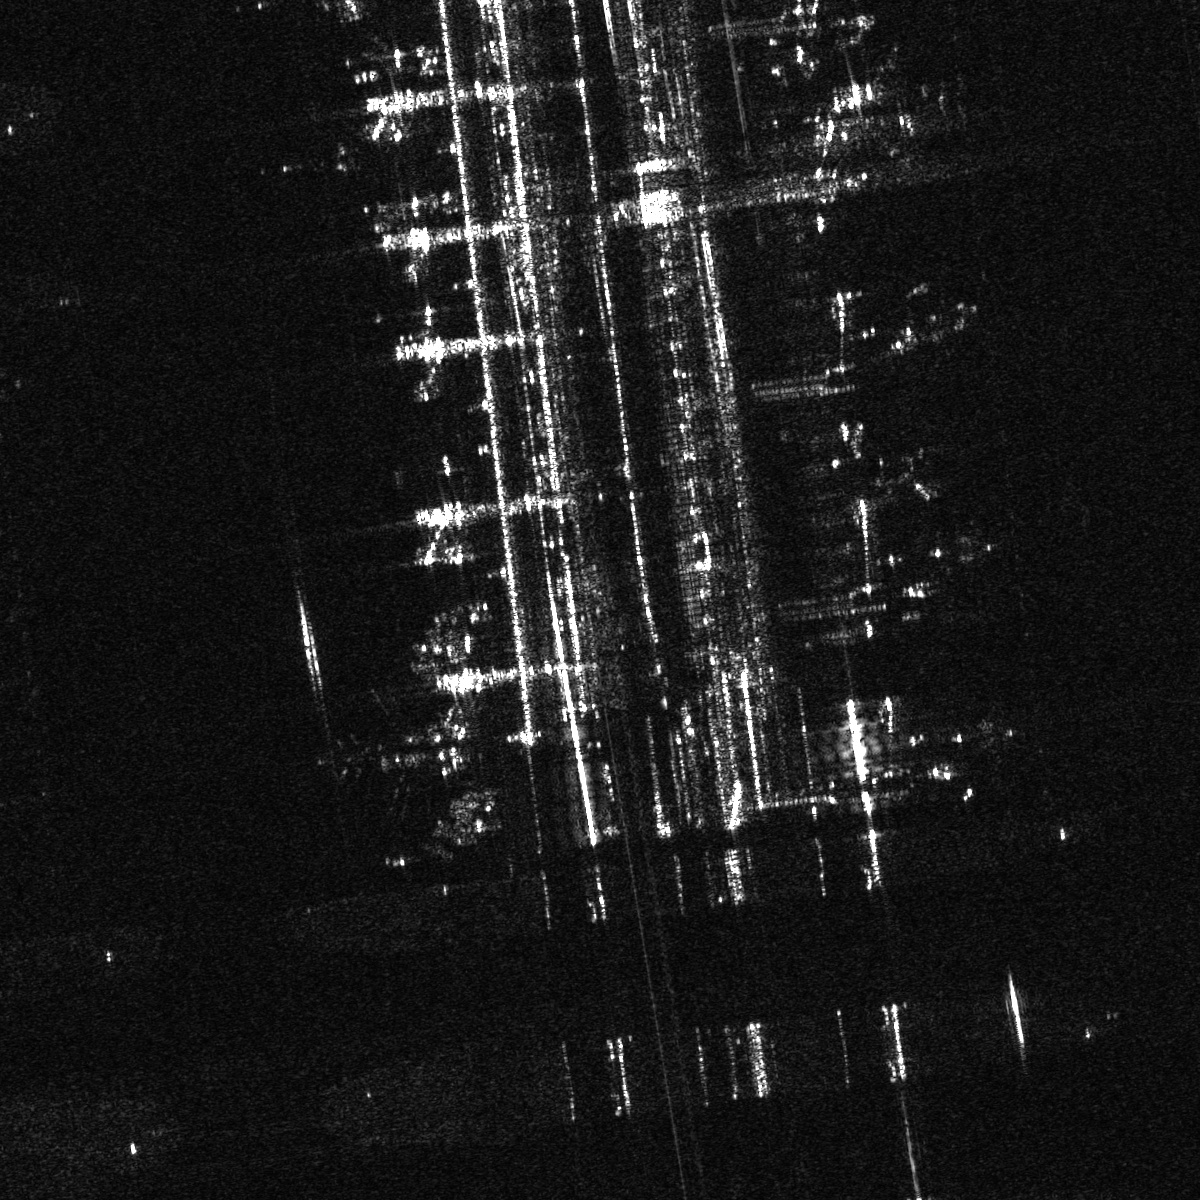A330: (318, 695, 433, 816)
